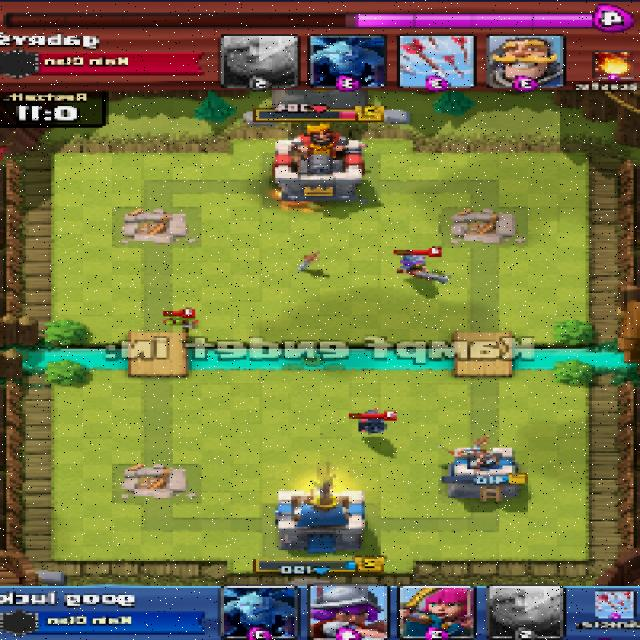Enemy-Goblin: (163, 312, 200, 332)
Enemy-MiniPEKKA: (357, 410, 393, 436)
Enemy-Musketeer: (397, 255, 452, 282)
